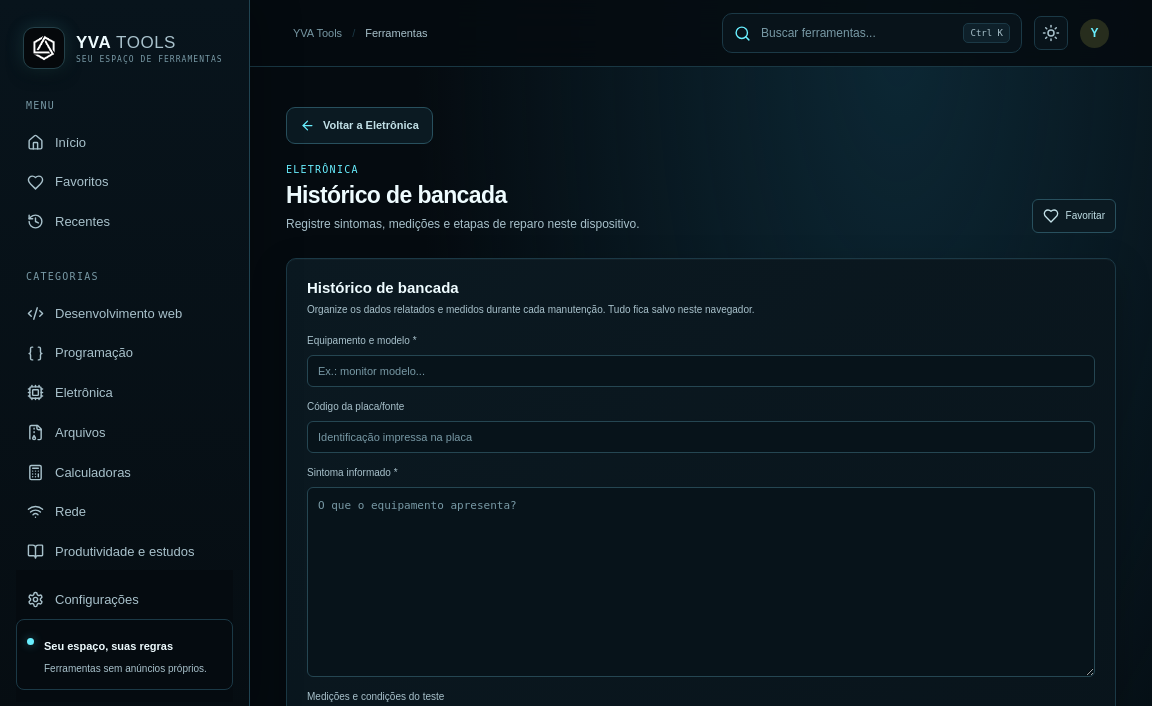
Parte 4: cálculos de eletrônica › registra uma ficha de bancada no armazenamento local
Type "Monitor exemplo" into the field labelled "Equipamento e modelo *".
click(701, 370); type("Monitor exemplo")  # box [307, 354, 1095, 386]
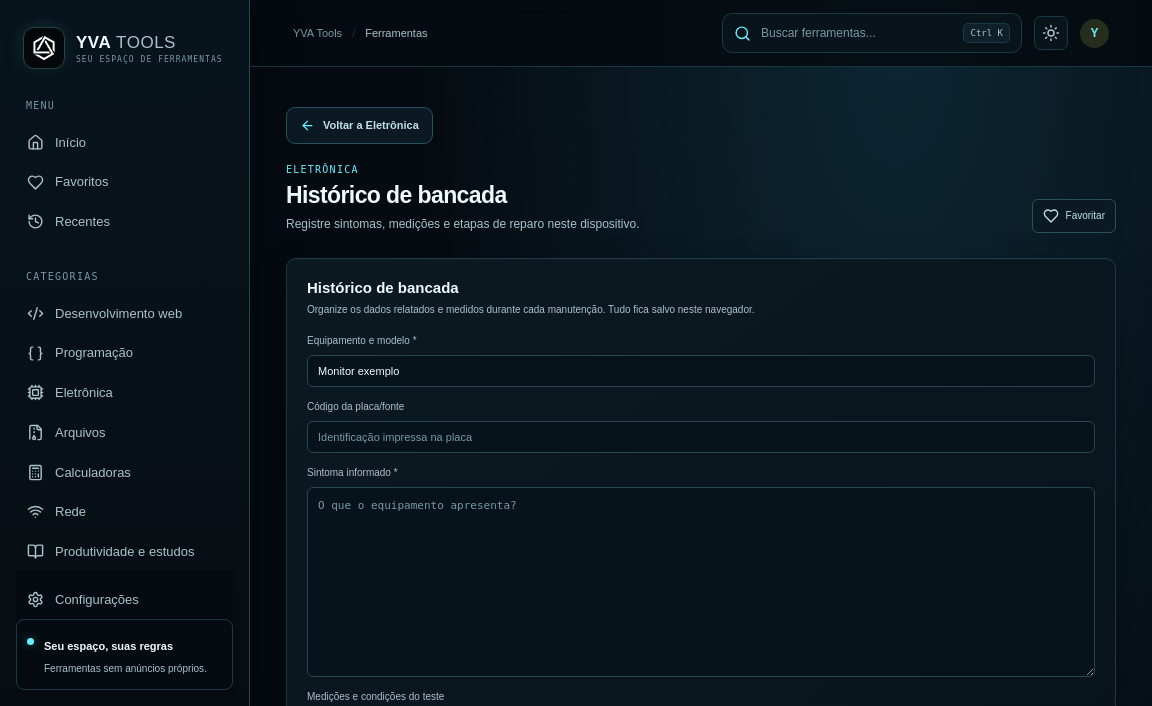
Type "Não liga" into the text box labelled "Sintoma informado *".
click(701, 582); type("Não liga")  # box [307, 486, 1095, 676]
(page scrolled)
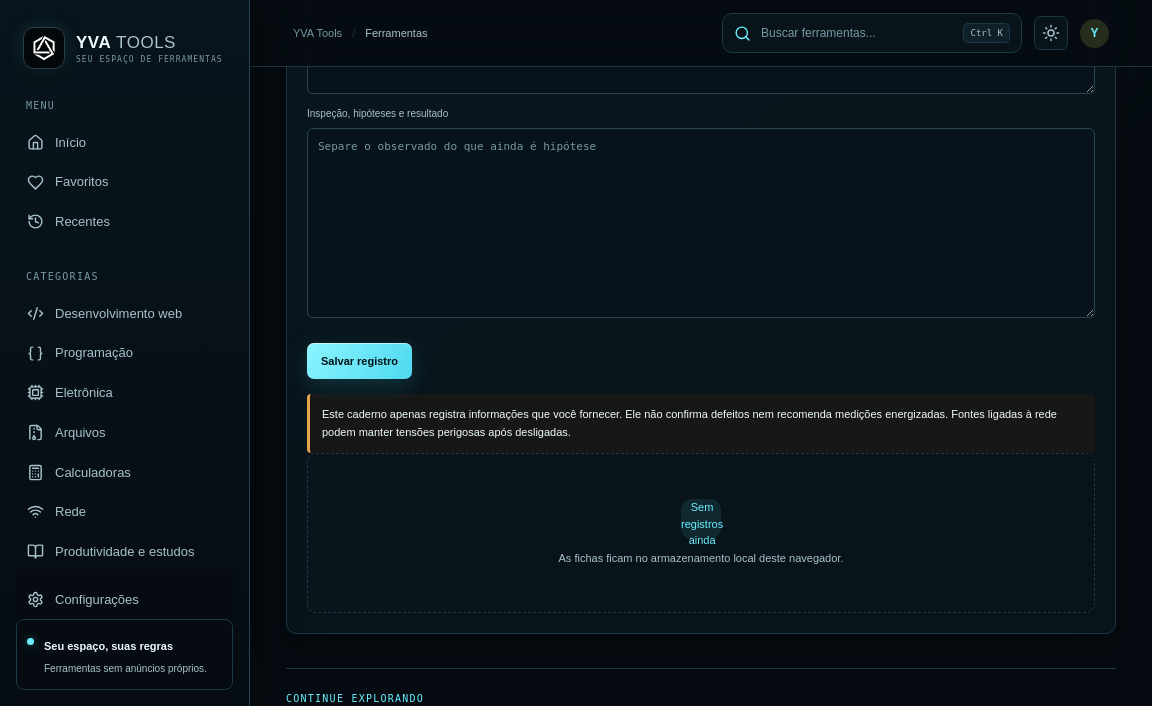
Click the button "Salvar registro".
click(360, 361)  # box [307, 342, 412, 379]
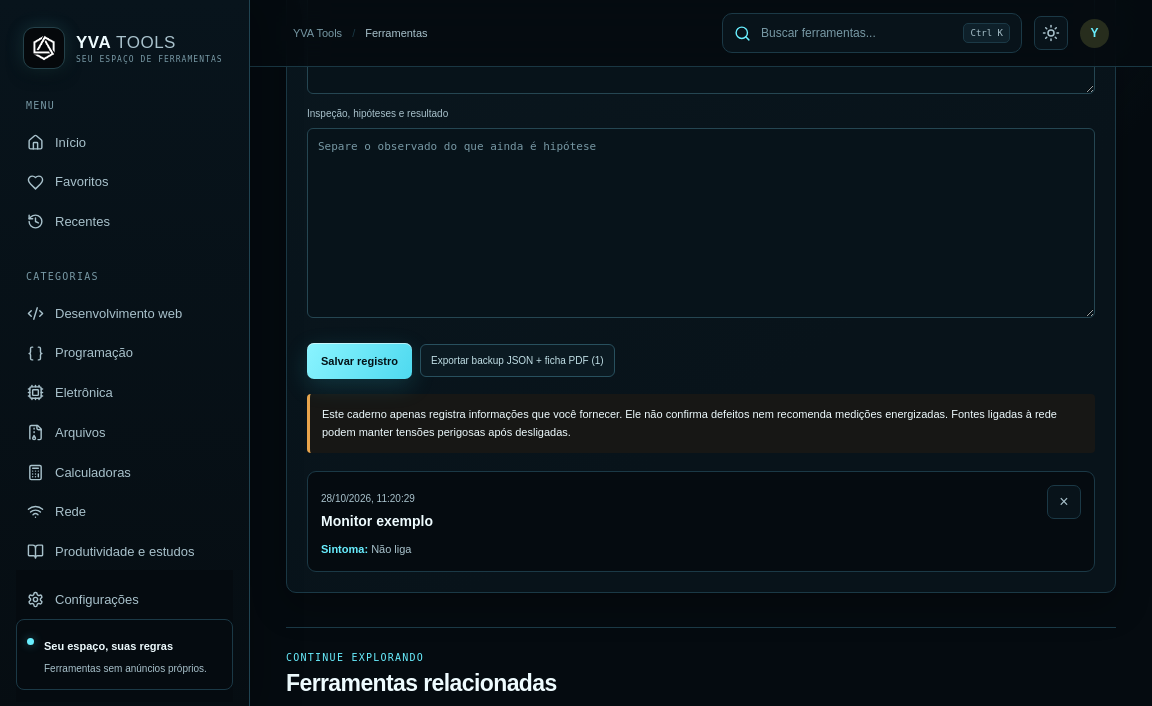
expect the heading "Monitor exemplo" is shown: met, box [321, 513, 433, 529]
